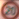20 km speed: (1, 1, 19, 18)
